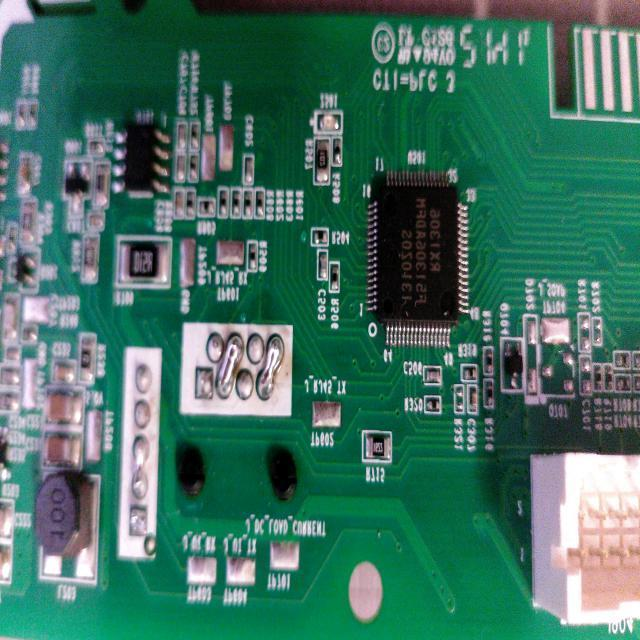Soldering shorted: (214, 327, 247, 405), (255, 330, 288, 405), (129, 434, 154, 504)
